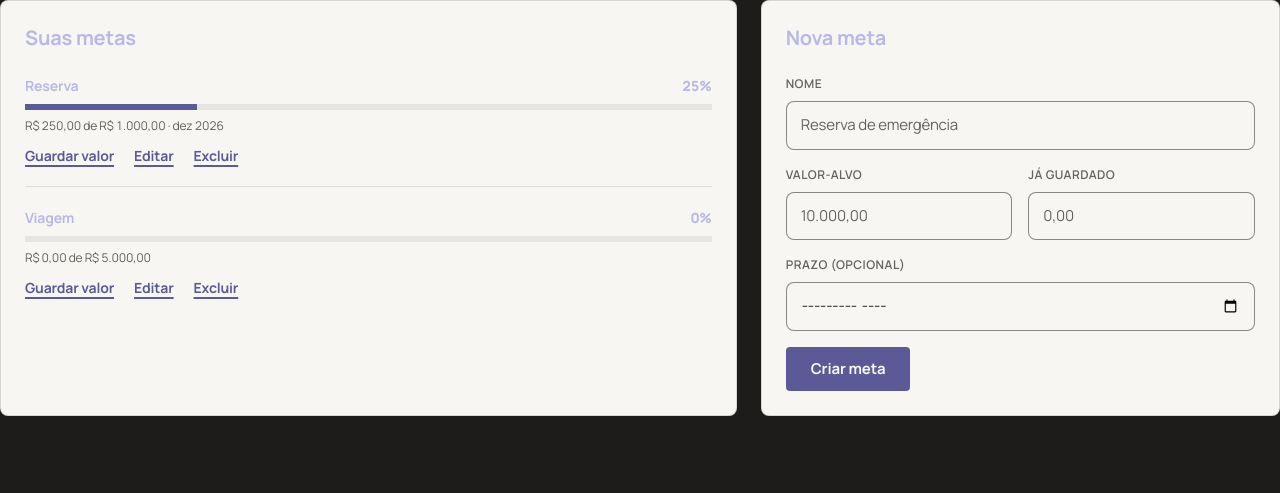
GoalsPage › checks the form before sending it
The width and height of the screenshot is (1280, 493).
Click the button "Criar meta" at (848, 368), box [786,346,910,390]
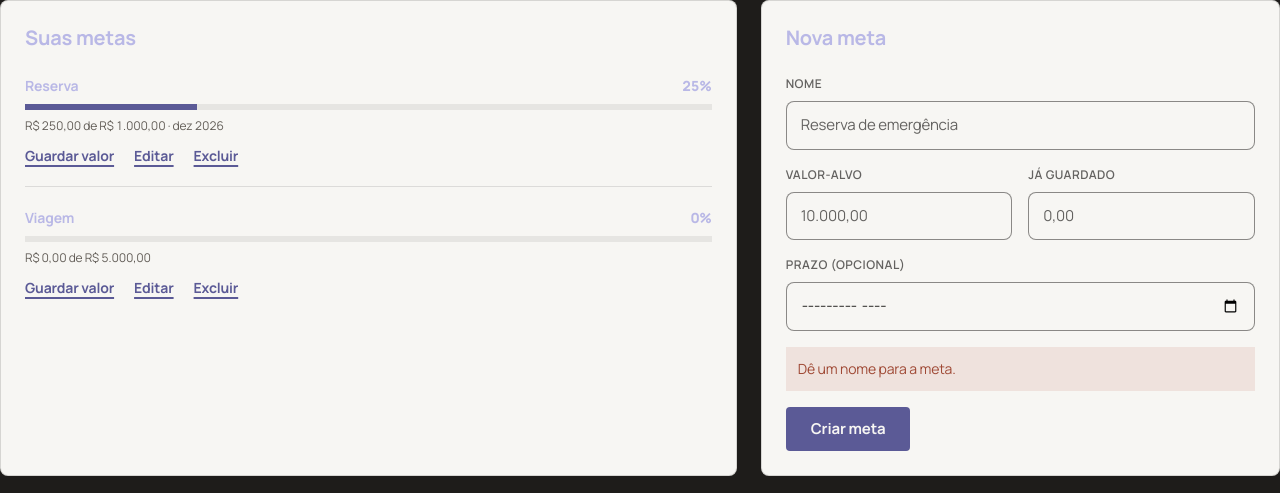
Expected: the message shows "nome", [798,358,956,378]
Type "Carro" into the field labelled "Nome" at (1020, 125), box [786,101,1255,150]
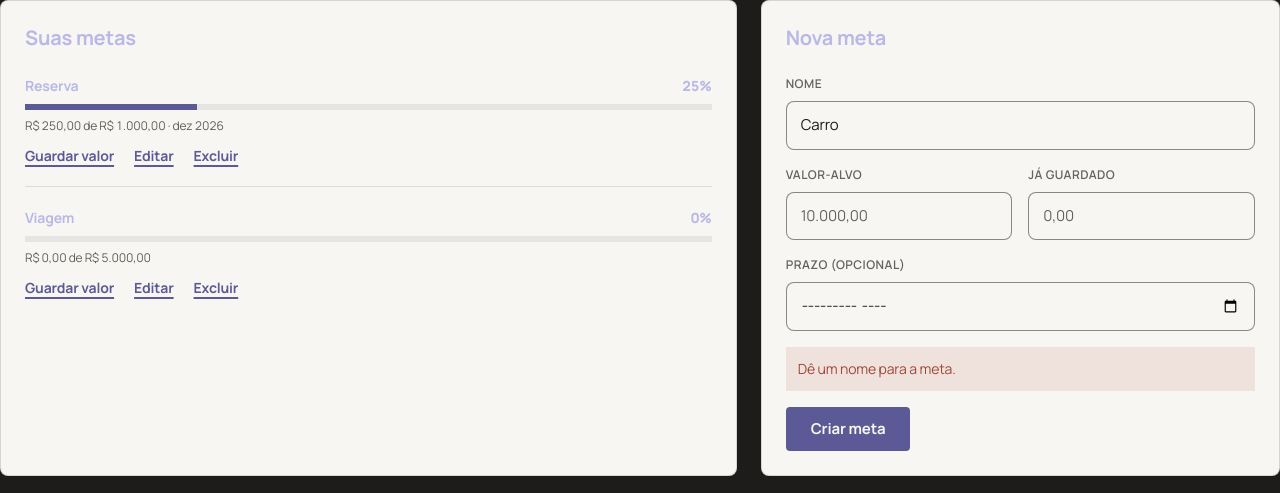
Type "0" into the field labelled "Valor-alvo" at (899, 216), box [786,192,1012,240]
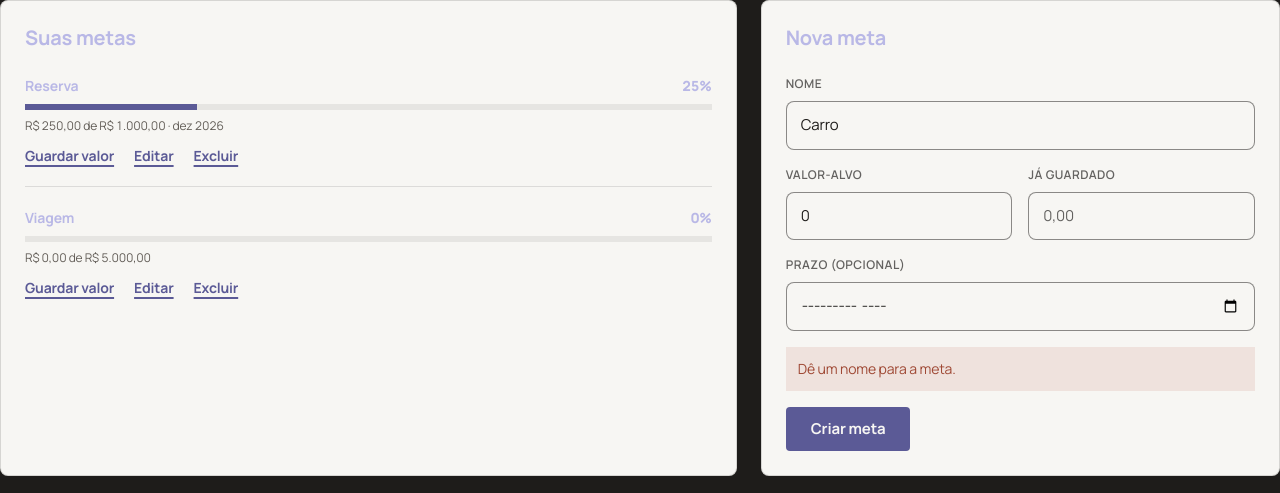
Click the button "Criar meta" at (848, 428), box [786,406,910,450]
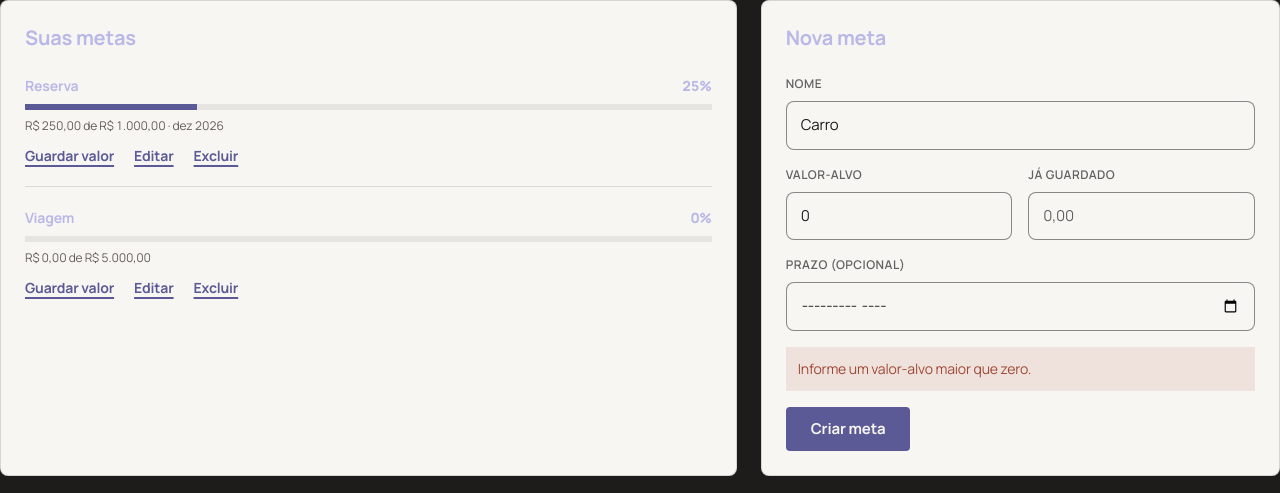
Expected: the message shows "valor-alvo", [798,358,1031,378]
